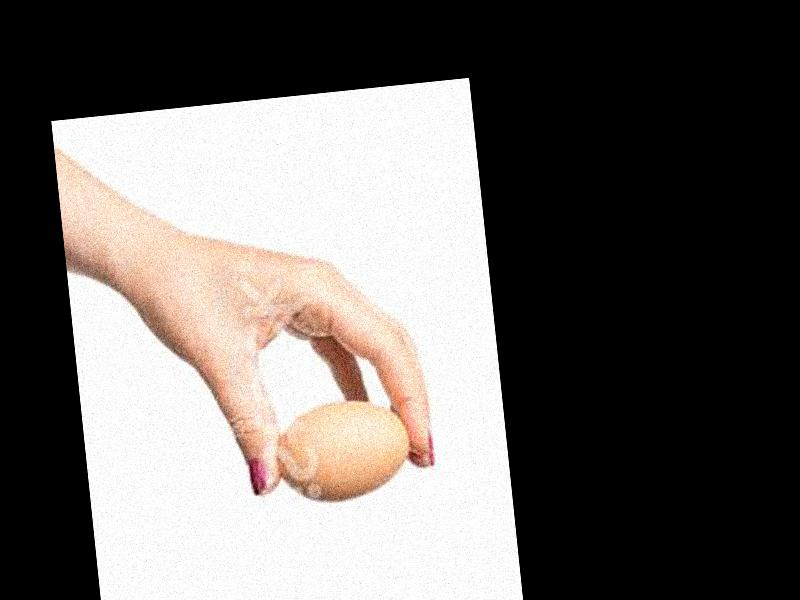Eggs: (271, 397, 413, 503)
